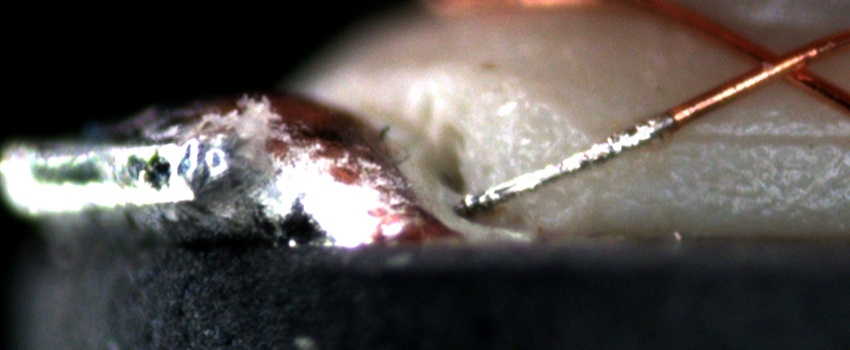CL: (731, 35, 826, 92)
DL: (672, 111, 850, 174)
TS: (458, 112, 677, 212)
